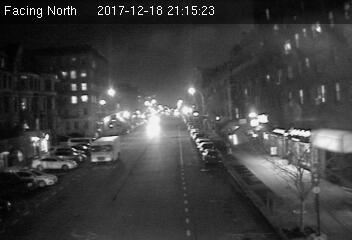car: (202, 147, 220, 162)
truck: (88, 135, 120, 164)
